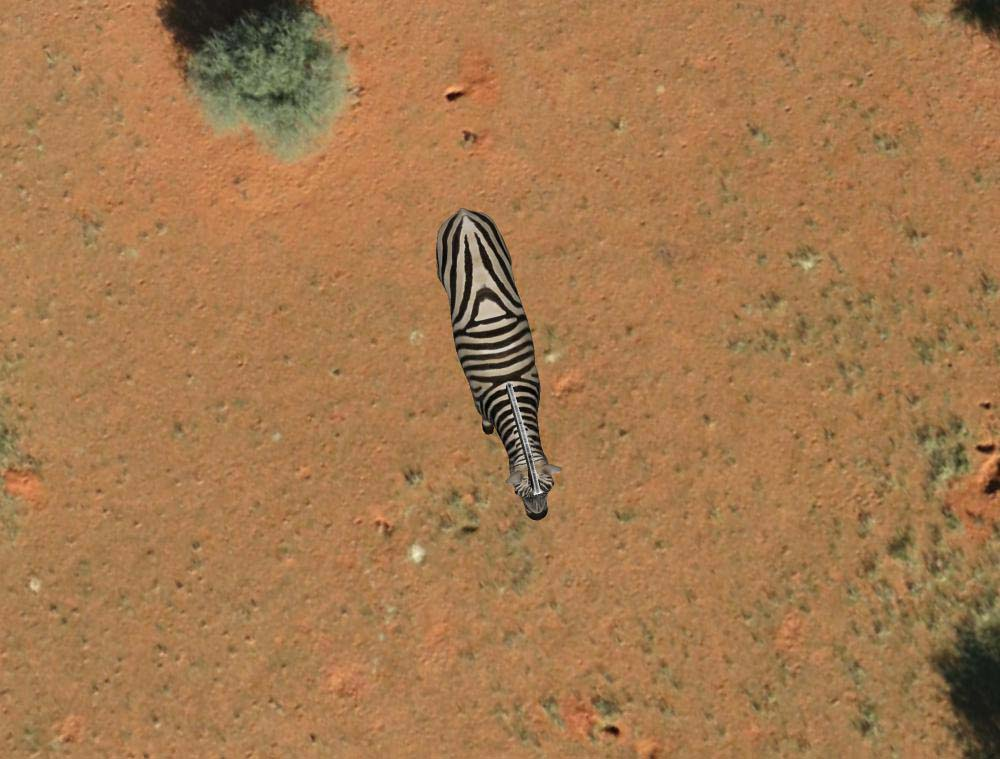zebra: (434, 207, 567, 523)
